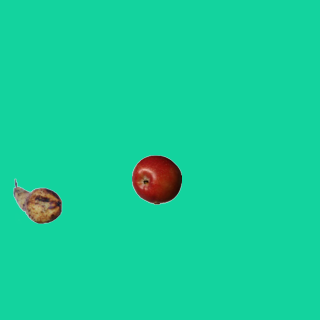Apple Braeburn: (131, 154, 181, 204)
Pear Abate: (12, 176, 62, 226)
